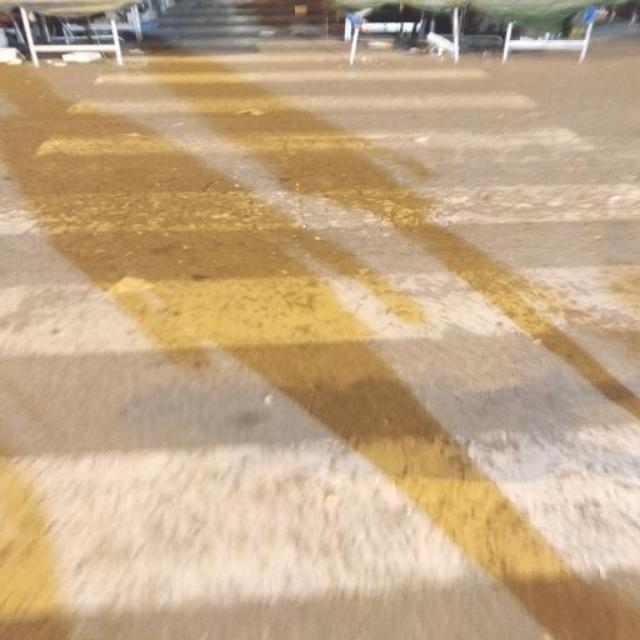sidewalk: (0, 1, 640, 625)
